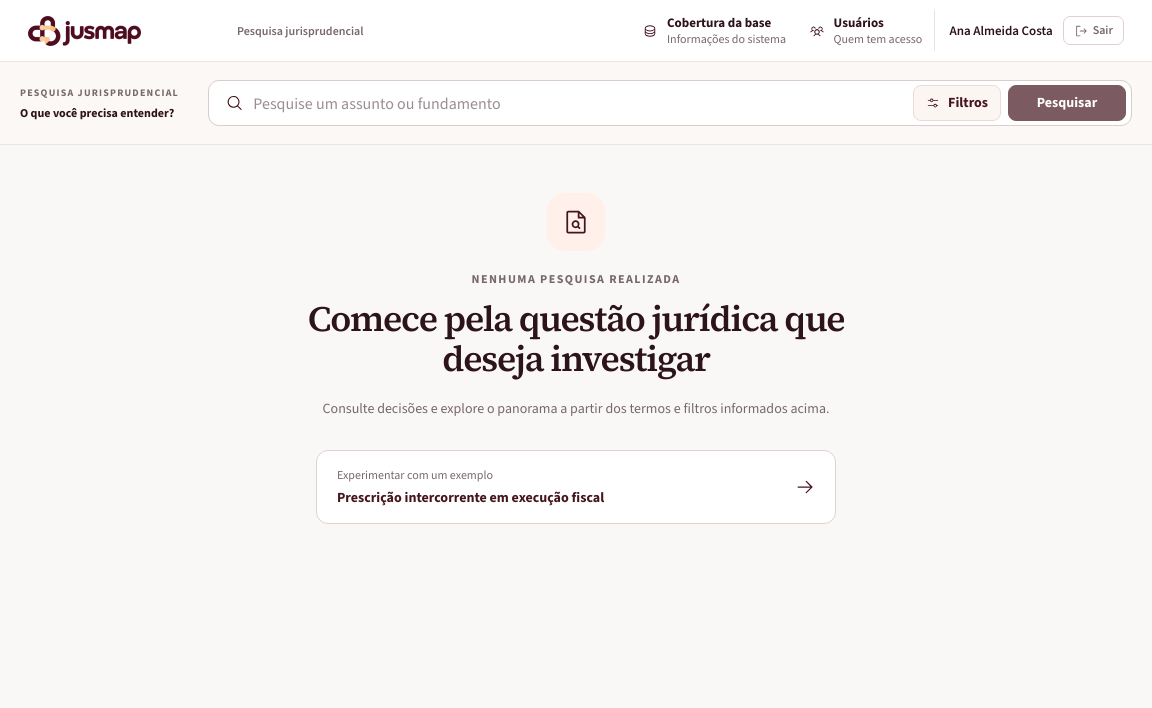
choosing decisions from the results › opens the first result, and another one only swaps the right side
The width and height of the screenshot is (1152, 708).
In the search field named "Pesquisar decisões": (578, 103) [253,85,903,121], type "prescrição intercorrente em execução fiscal"
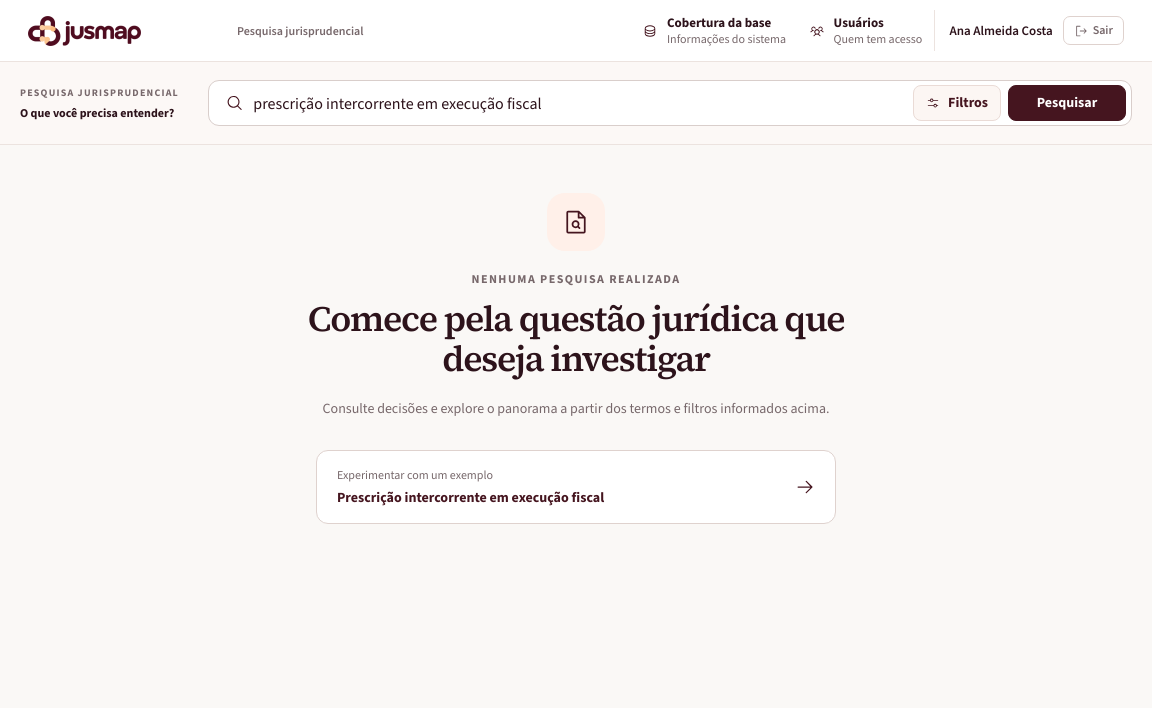
Click the button "Pesquisar": click(1067, 103) [1008,85,1126,121]
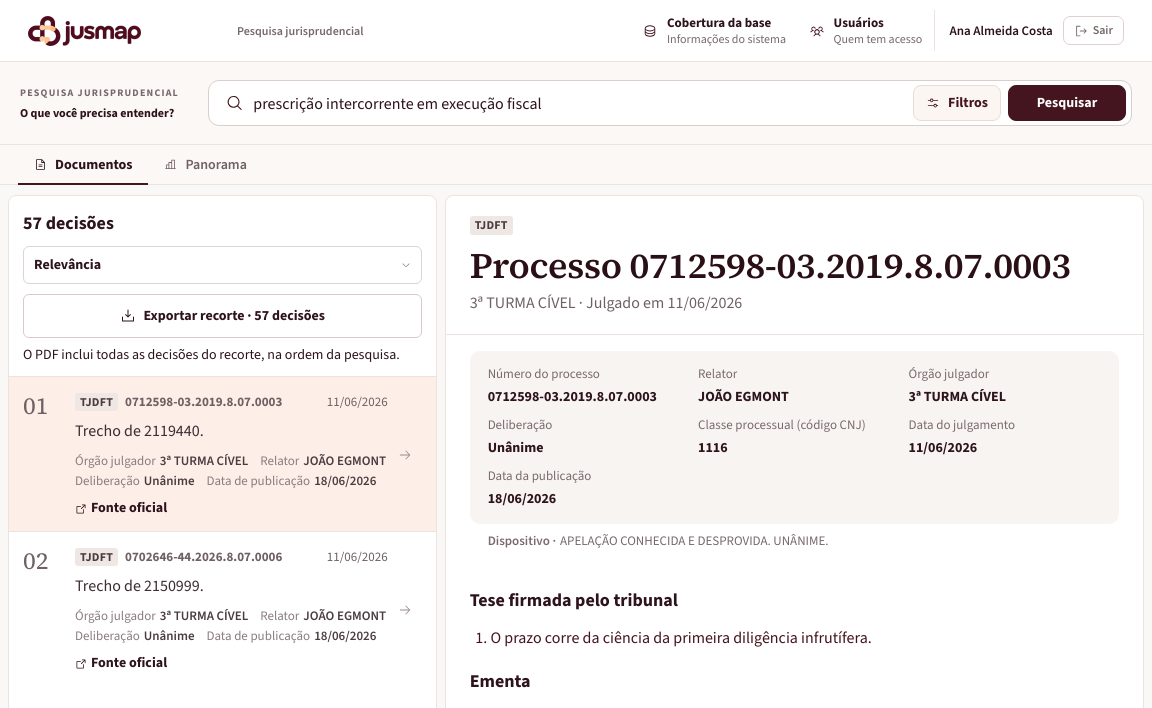
Result: the heading "Processo 0712598-03.2019.8.07.0003" is shown at [470,245,1070,286]
Click the link named "Ler a decisão do processo 0702646" next to "0702646-44.2026.8.07.0006": click(185, 541) [8,531,362,552]
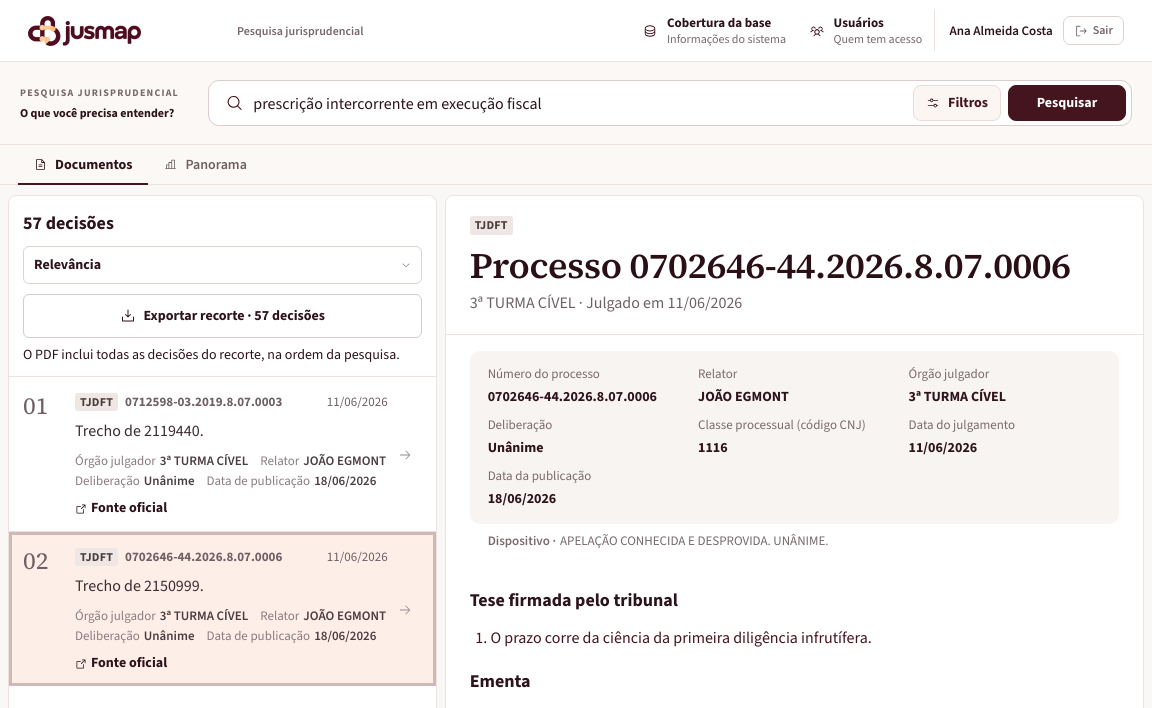
Result: the text "57" is shown at [23,211,42,235]
Result: the heading "Processo 0702646-44.2026.8.07.0006" is shown at [470,245,1070,286]
